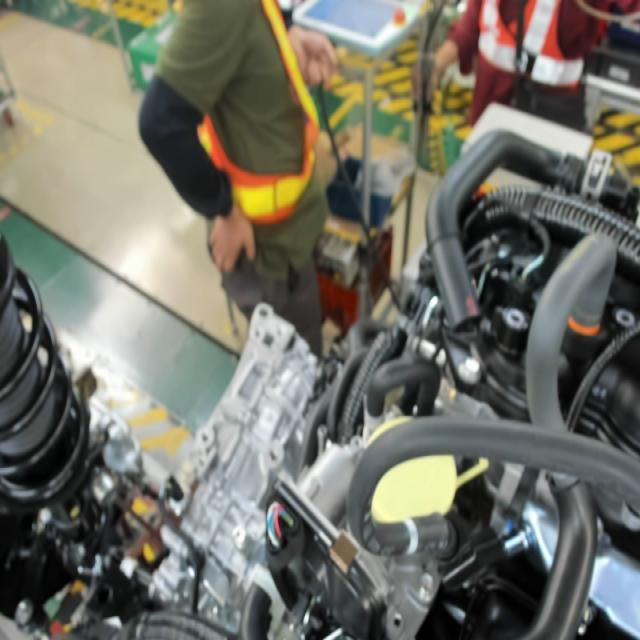Tube Sub Assy Fuel-W: (393, 511, 422, 558)
